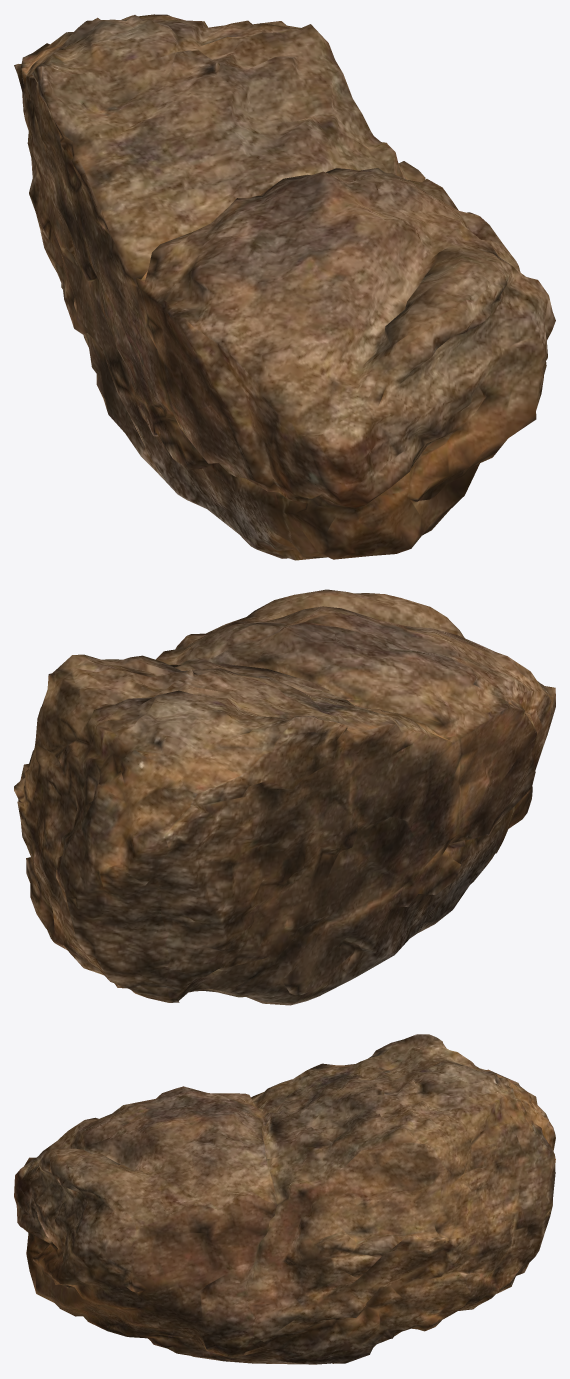
The model's file is boulder.glb.
3 renders of one model, top to bottom at view 1: azimuth 30°, elevation 25°; view 2: azimuth 150°, elevation 25°; view 3: azimuth 270°, elevation 25°, orthographic. The views are drawn at different scales.
Visible parts, largest first — view 1: namaqualand_boulder_06; view 2: namaqualand_boulder_06; view 3: namaqualand_boulder_06.
Part boxes in pixels (left/top/right/bottom): namaqualand_boulder_06: left=14, top=14, right=555, bottom=560; namaqualand_boulder_06: left=14, top=589, right=555, bottom=1005; namaqualand_boulder_06: left=14, top=1034, right=555, bottom=1364.
Size of the model in its own units: 0.6736 by 0.6495 by 1.21.
1 material, 1 textured.
